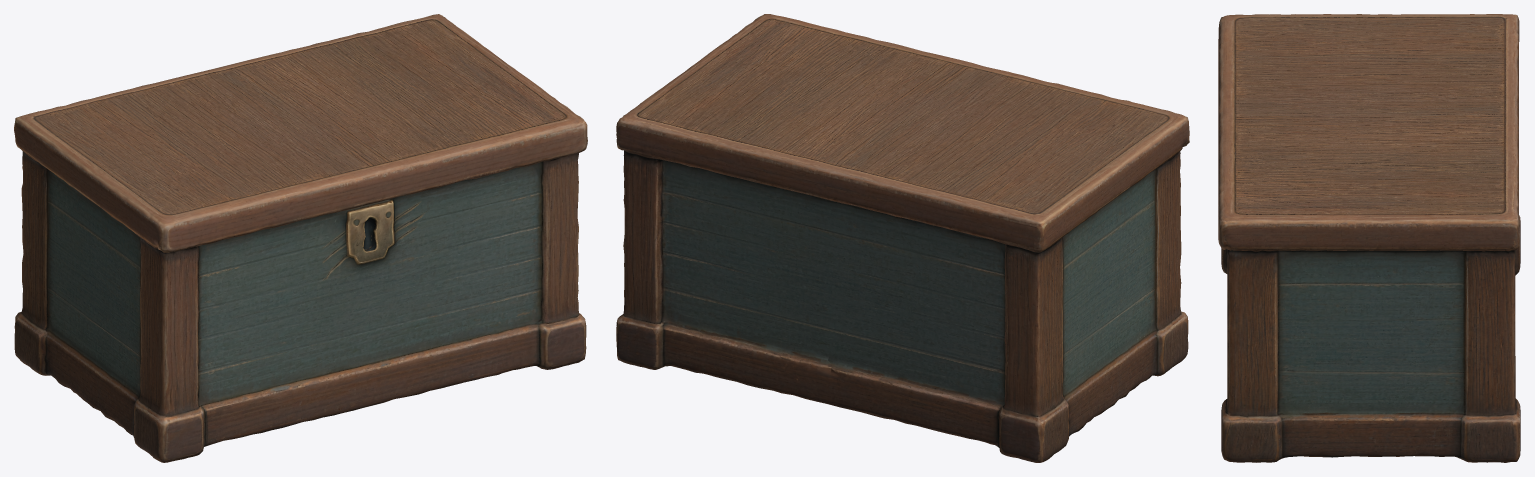
File: Furn_ToyChest_Body.fbx
The picture shows the model from 3 angles, left to right: view 1: azimuth 30°, elevation 25°; view 2: azimuth 150°, elevation 25°; view 3: azimuth 270°, elevation 25°; orthographic projection.
Visible parts, largest first — view 1: texture_mapping; view 2: texture_mapping; view 3: texture_mapping.
Boxes of the visible parts, <box> form: texture_mapping: <box>14,14,587,462</box>; texture_mapping: <box>616,14,1189,462</box>; texture_mapping: <box>1218,14,1520,462</box>.
Size of the model in its own units: 1 by 0.6101 by 0.5471.
Materials: 1 (1 with a texture image).
